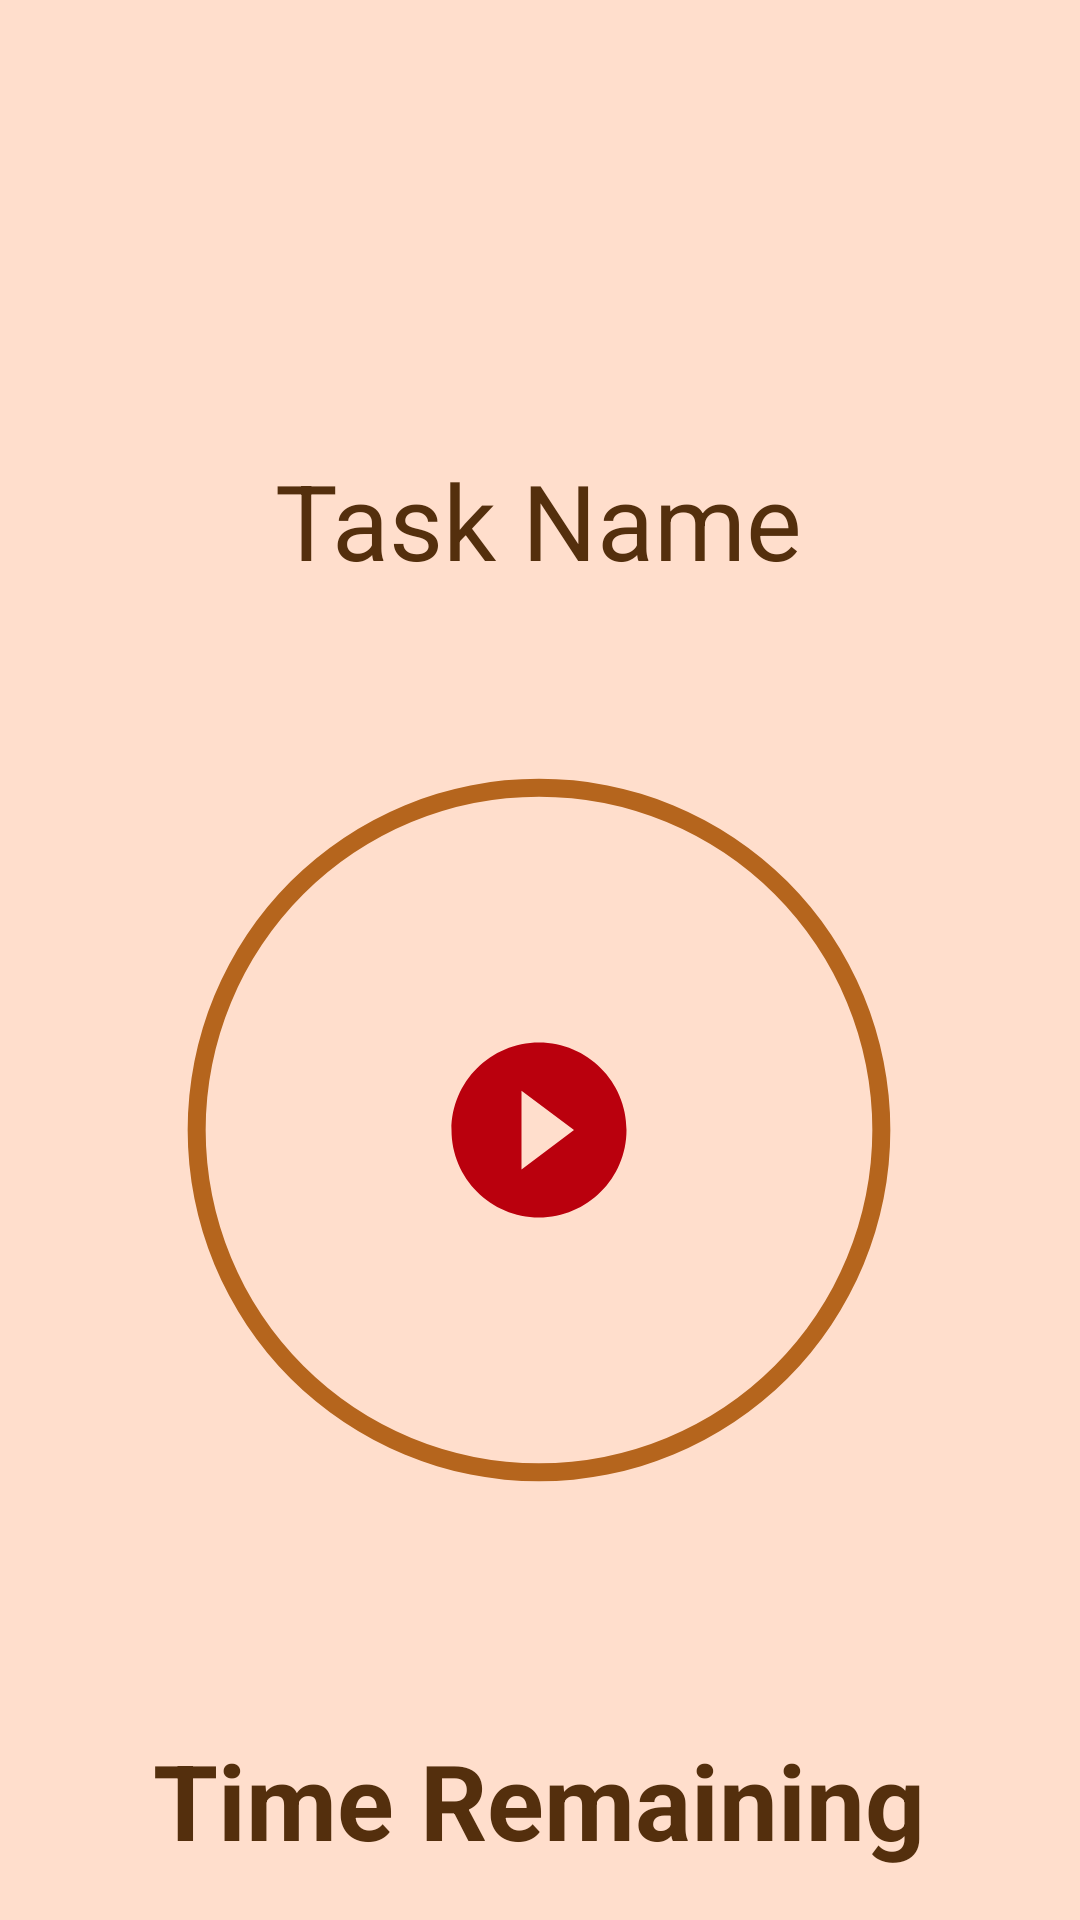

Point at icon controls on the screen. Image size 1080x1920, points as (x,y).
play: (539,1130)
